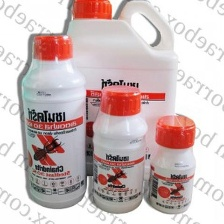insecticide: (55, 0, 181, 184), (14, 30, 91, 213), (89, 81, 150, 217), (145, 114, 200, 216)
